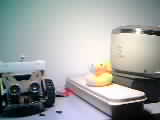duck: (78, 52, 122, 95)
